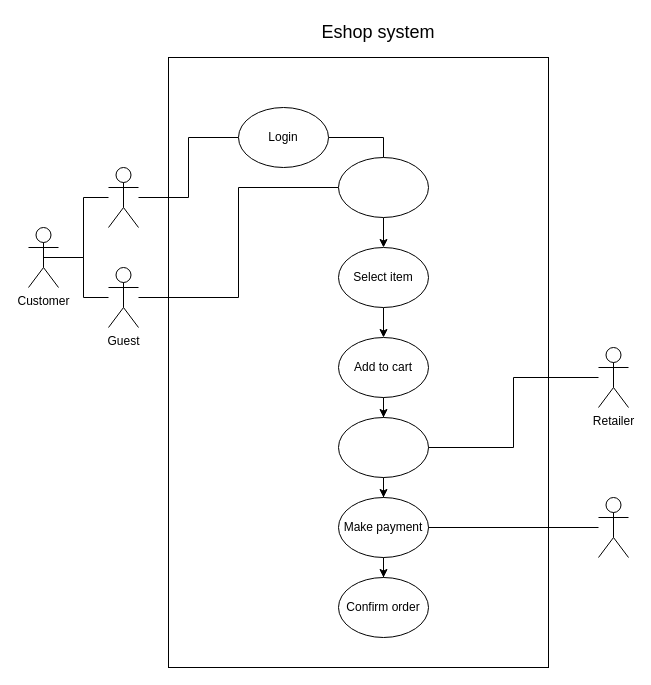
Some shapes in this 651 by 685 pixel diagram are drawn without their labels. The centre of each missing label's shape, as x and y in pixels:
"Bank" goes at pixel 613 527.
"Browse for item" goes at pixel 383 187.
"Checkout" goes at pixel 383 447.
"User" goes at pixel 123 197.
